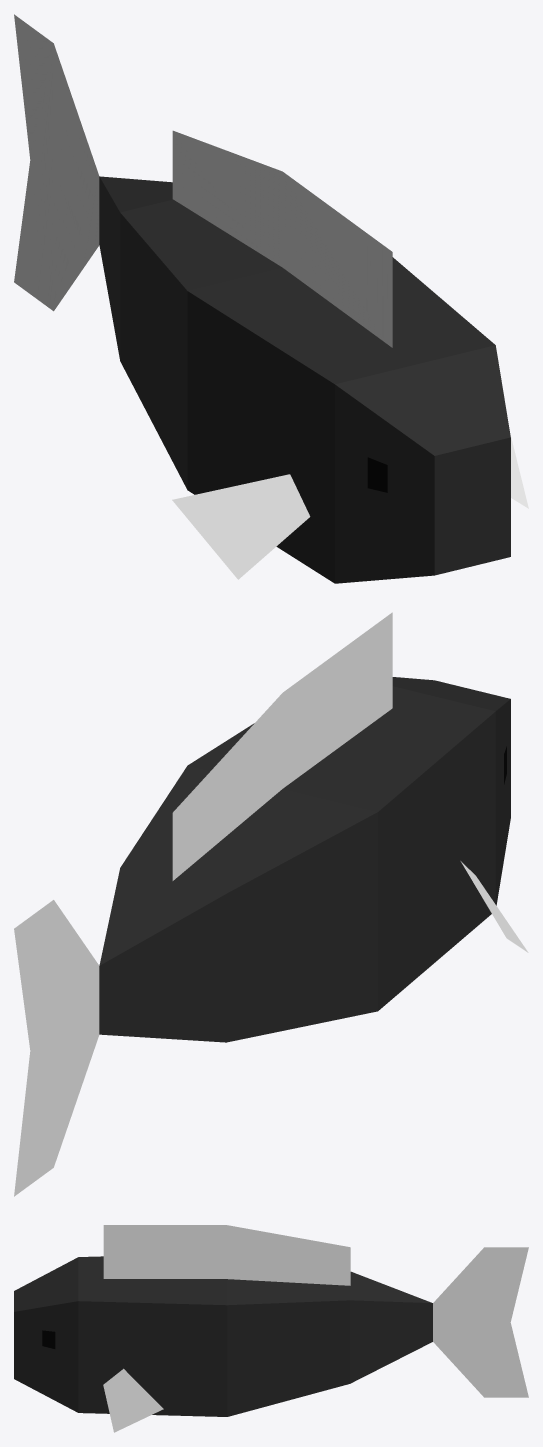
Rendered from 21tuna.fbx.
3 renders of one model, top to bottom at view 1: azimuth 30°, elevation 25°; view 2: azimuth 150°, elevation 25°; view 3: azimuth 270°, elevation 25°, orthographic. The views are drawn at different scales.
Visible parts, largest first — view 1: Tropical Fish 21; view 2: Tropical Fish 21; view 3: Tropical Fish 21.
Boxes of the visible parts, x1,y1,x2,y2 form: Tropical Fish 21: [14, 14, 528, 583]; Tropical Fish 21: [14, 612, 528, 1196]; Tropical Fish 21: [14, 1225, 528, 1432].
Size of the model in its own units: 105 by 92.56 by 250.
